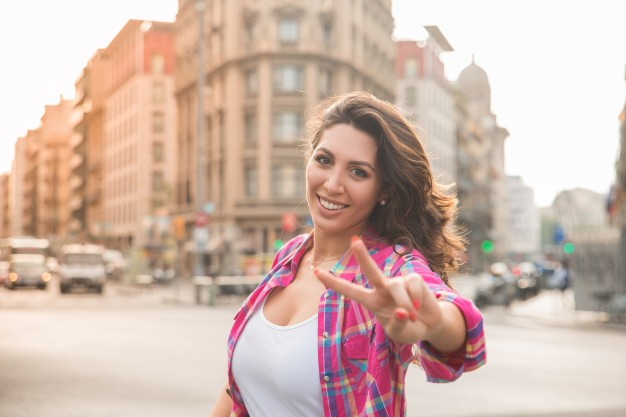peacesign: (313, 236, 448, 350)
